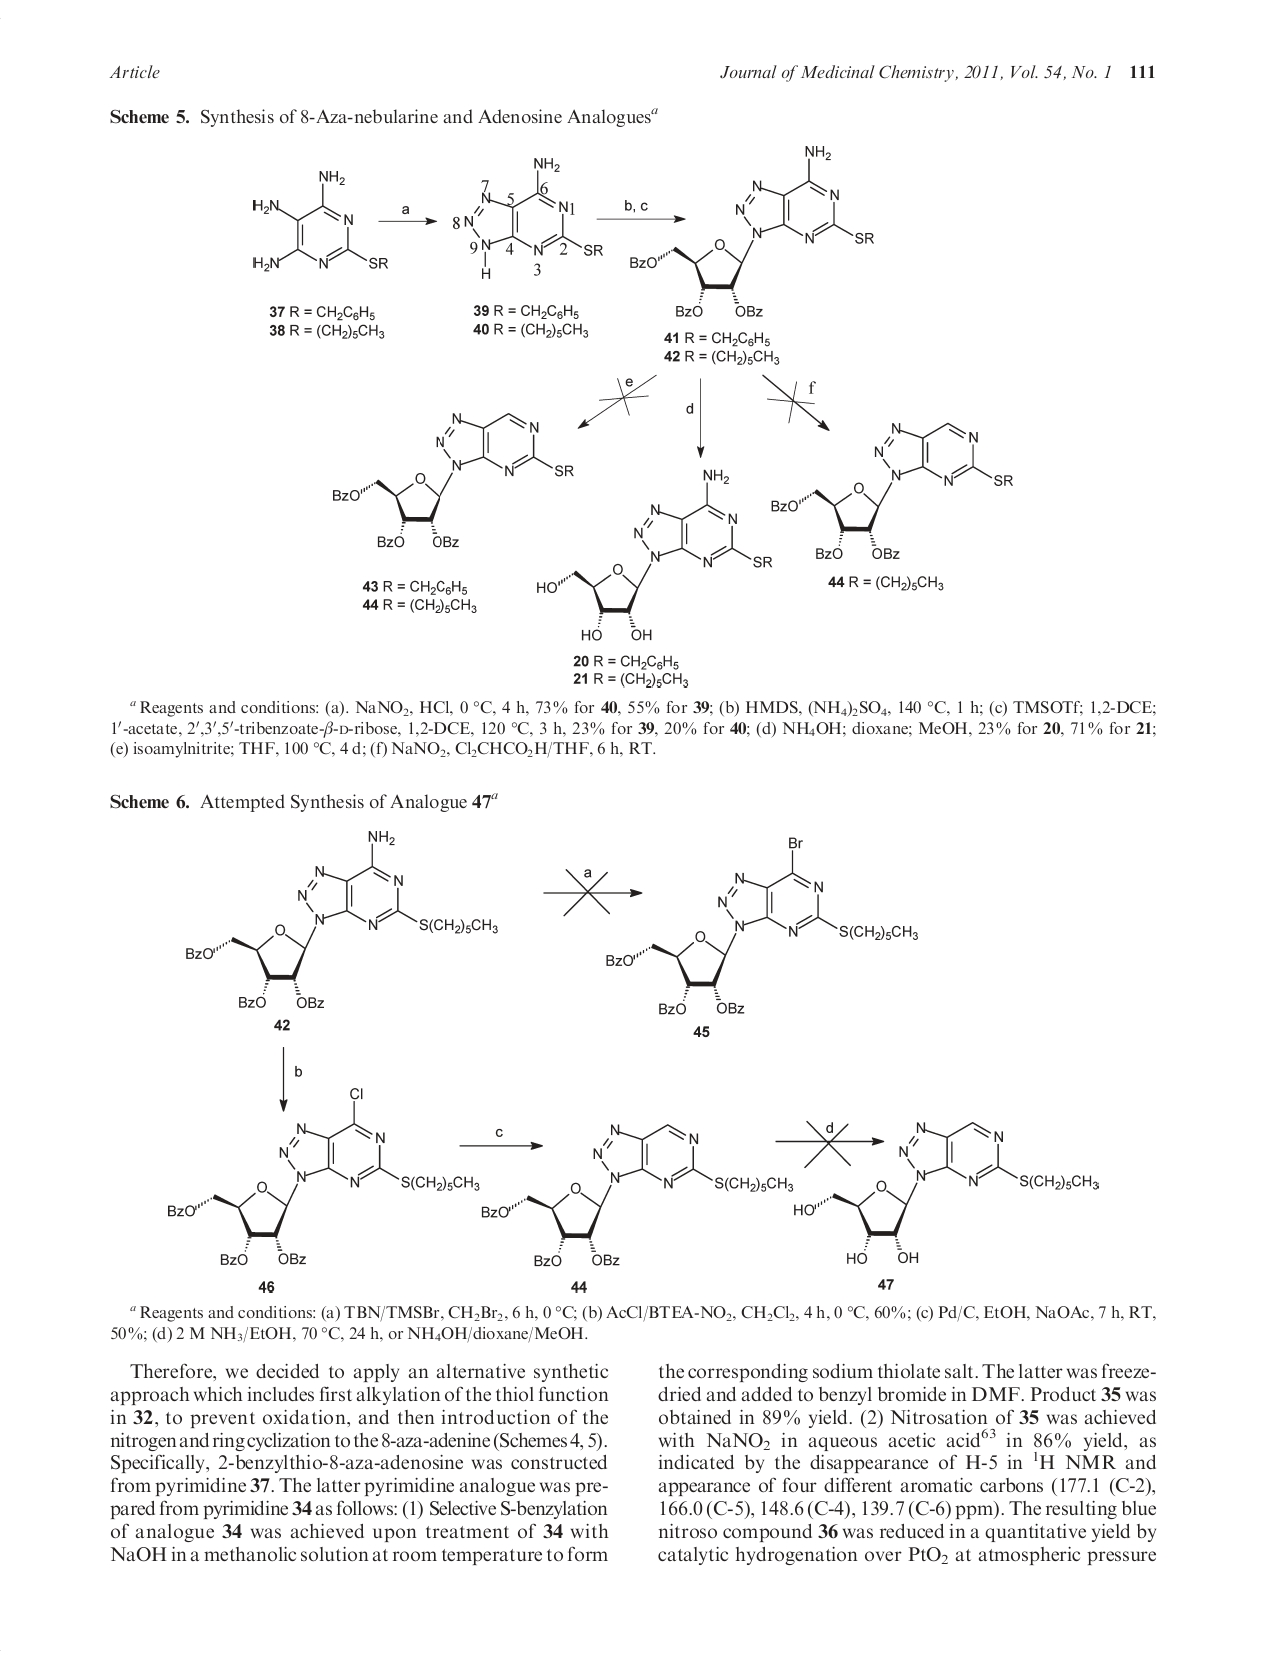exist_molecular: (602, 831, 922, 1017), (182, 826, 501, 1011), (164, 1087, 483, 1267), (480, 1121, 793, 1271), (793, 1118, 1101, 1266), (629, 144, 875, 322), (535, 468, 773, 644), (767, 420, 1017, 563), (328, 410, 577, 551), (460, 154, 605, 279), (250, 165, 390, 277)
